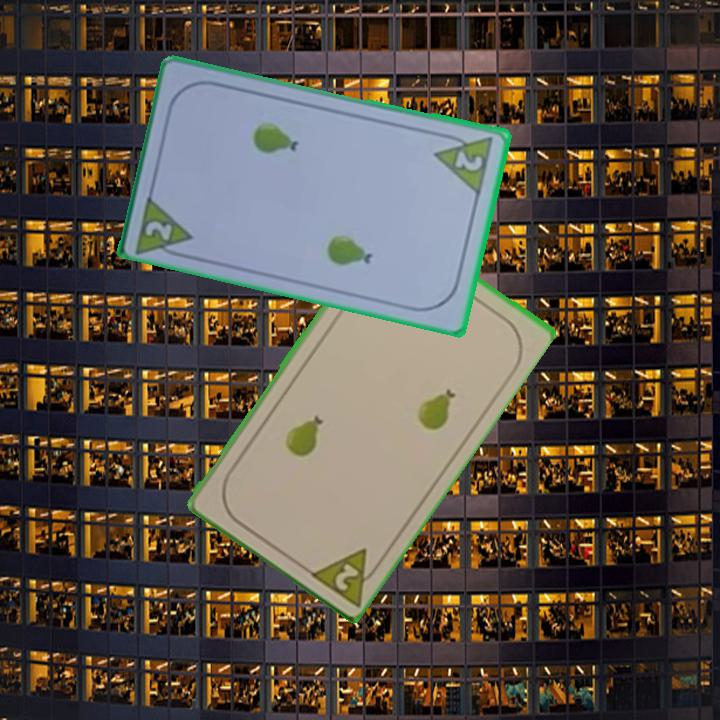2p: (304, 543, 386, 609), (431, 128, 497, 197), (141, 216, 176, 245)
